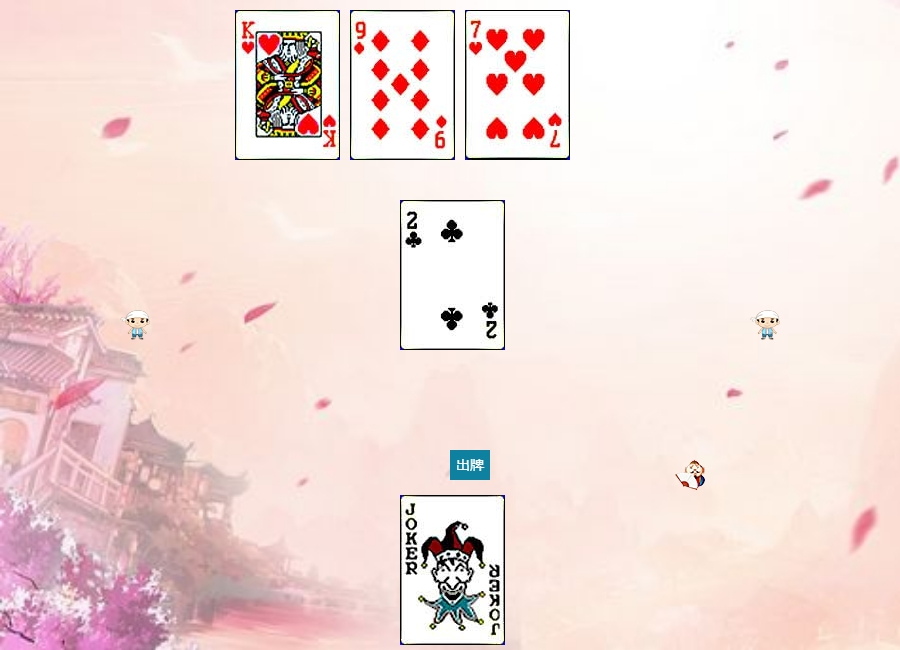13~3: (235, 10, 340, 160)
15~2: (400, 200, 505, 350)
17~3: (400, 495, 505, 645)
7~3: (465, 10, 570, 160)
9~1: (350, 10, 455, 160)
